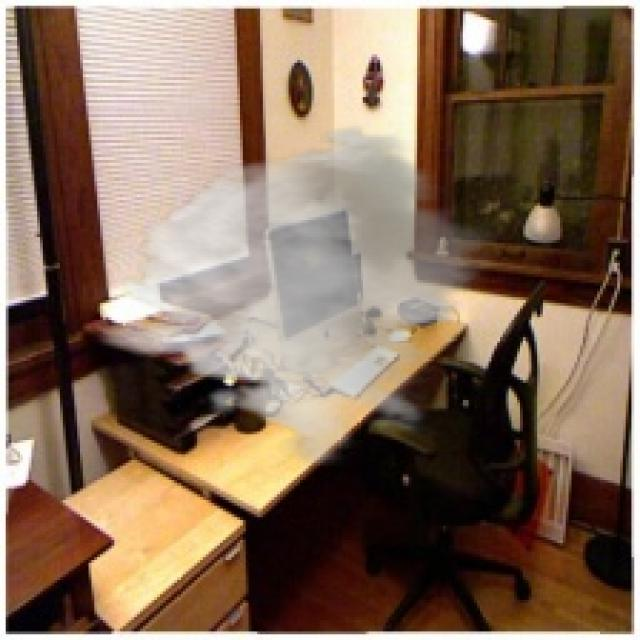smoke: (97, 123, 503, 466)
